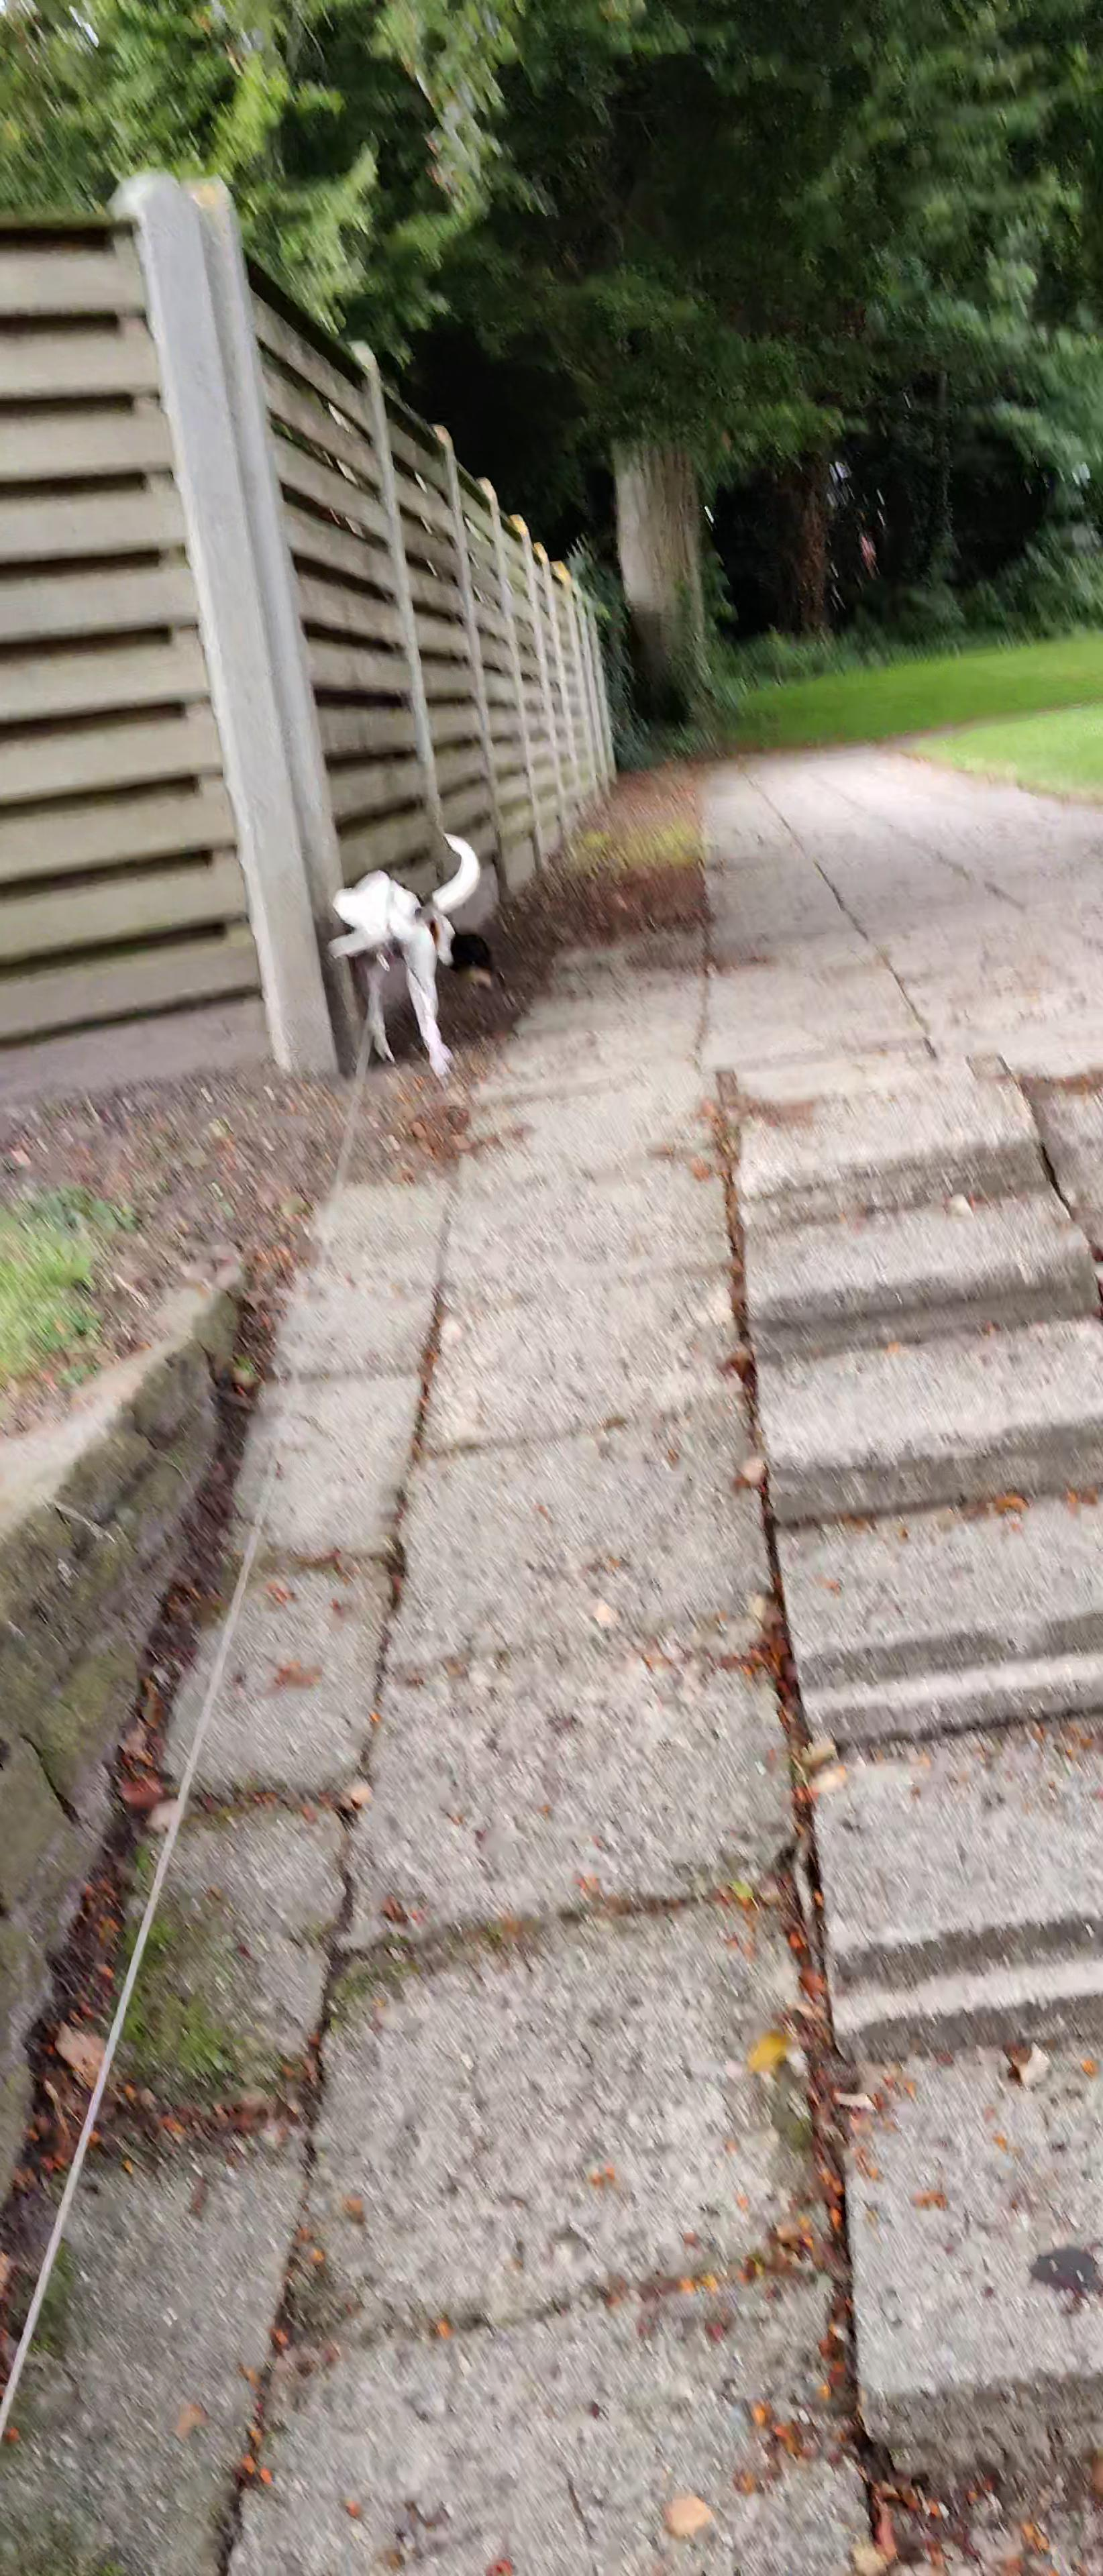Dog: (317, 826, 505, 1086)
